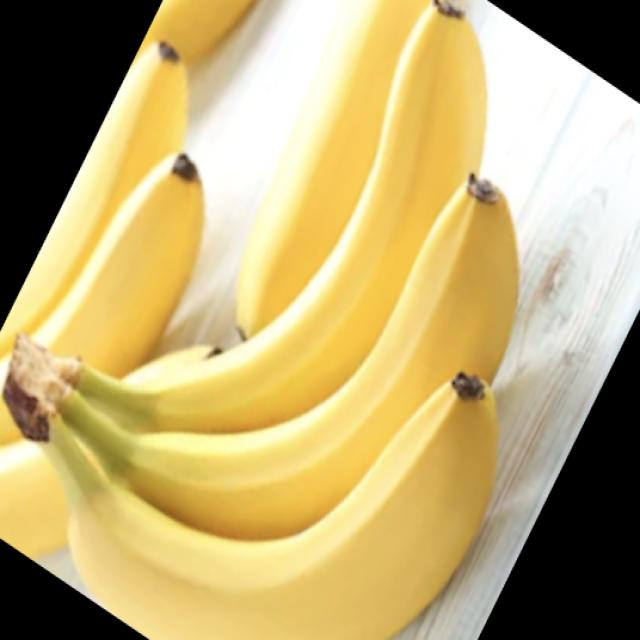god quality banana: (0, 1, 519, 639)
